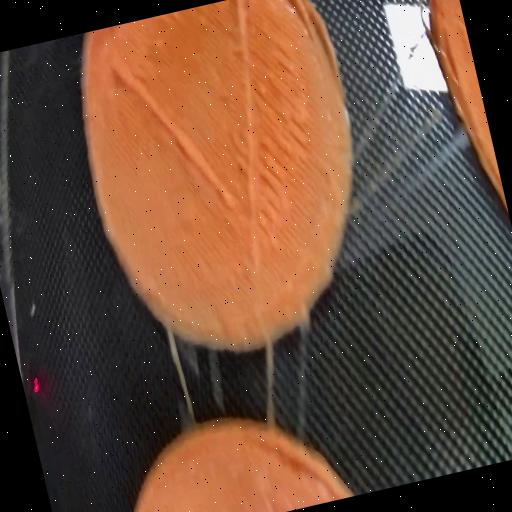over_extrusion: (197, 0, 306, 267), (106, 31, 238, 230)
